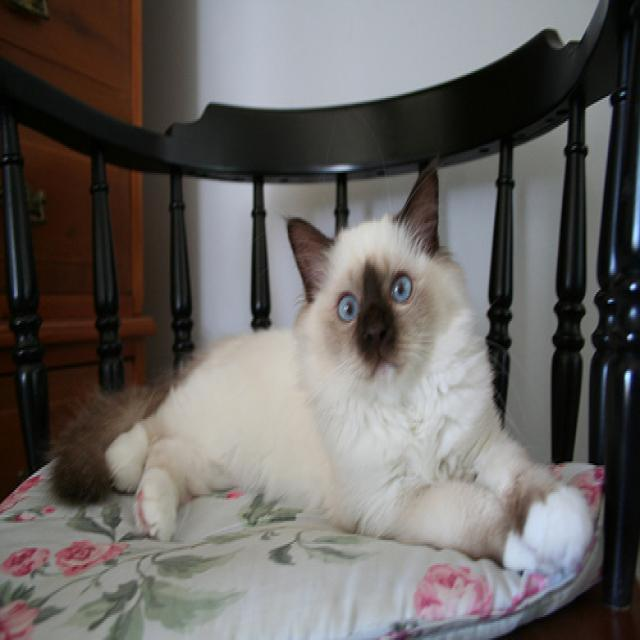Birman: (285, 150, 466, 410)
